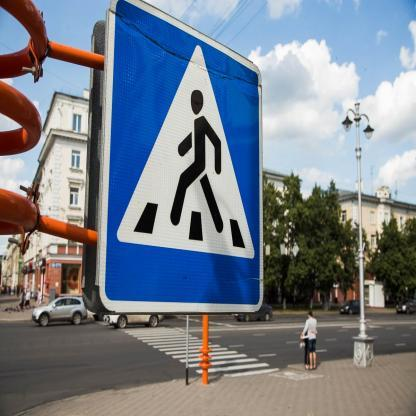road_sign: (95, 2, 262, 313)
